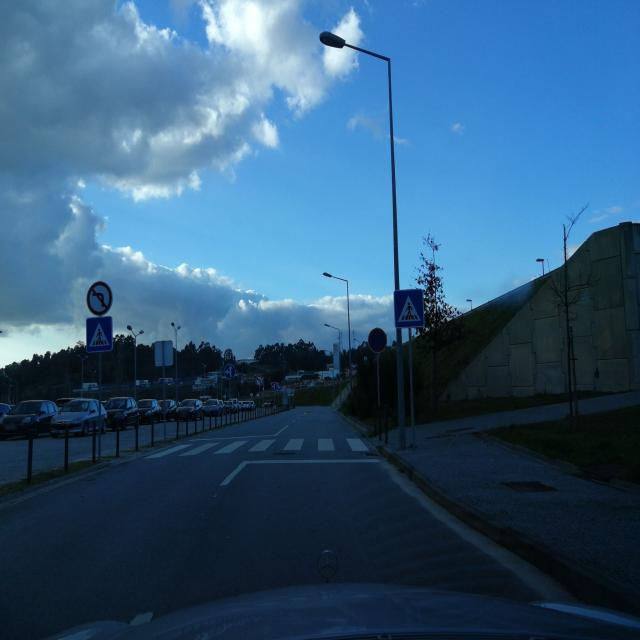forb_stopping: (367, 327, 387, 353)
